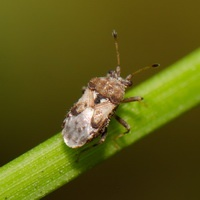insect: (62, 30, 159, 147)
